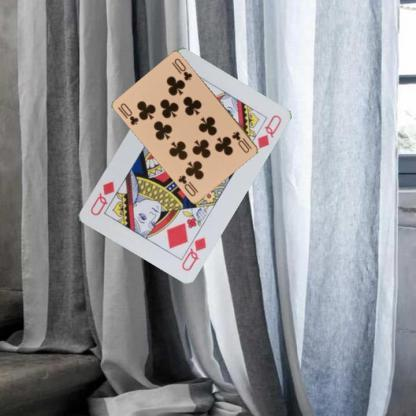10c: (118, 100, 140, 126), (230, 129, 252, 154)
Qd: (178, 228, 208, 272)
